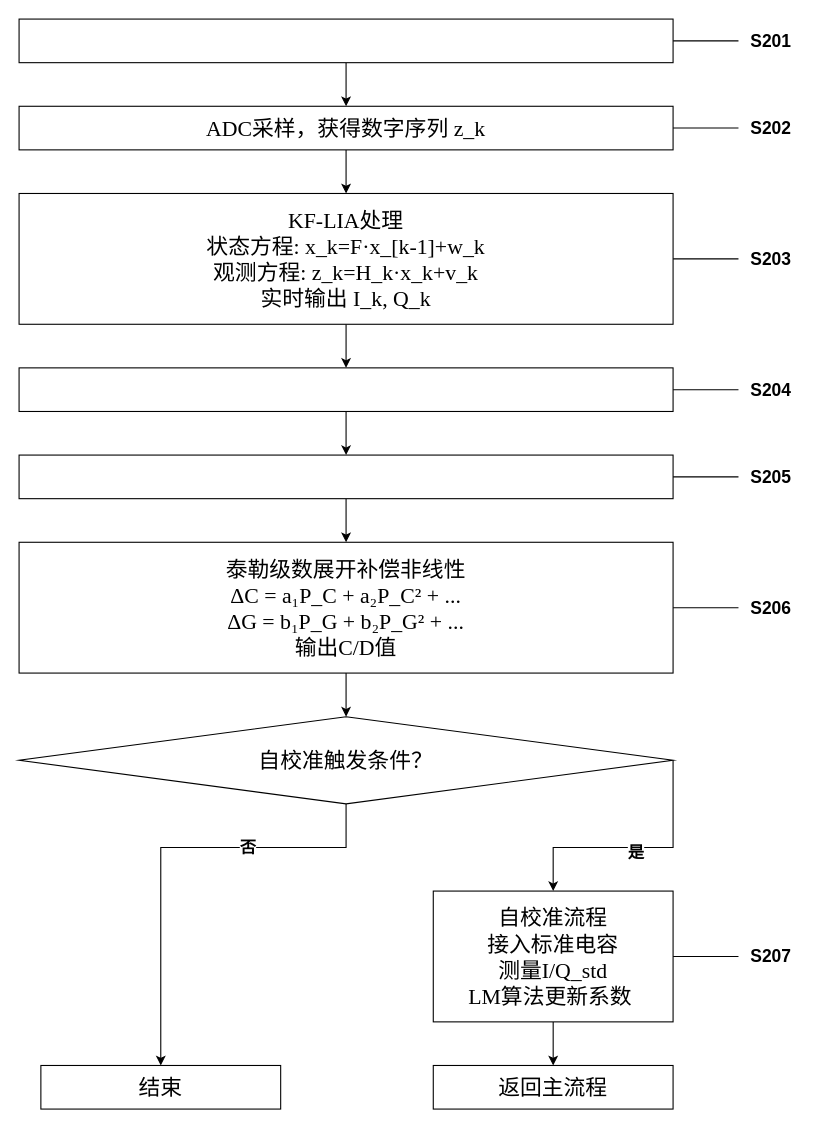
Some shapes in this 823 by 1128 pixel diagram are drawn without their labels. The centre of each missing label's shape, as x and y in pixels:
"施加正弦激励 ， 获取V_unbalance" belongs at pixel 345 40.
"矢量正交分解，V_meas = P_C·v_C + P_G·v_G" belongs at pixel 345 476.
"输入VOD-TSE模型" belongs at pixel 345 389.
